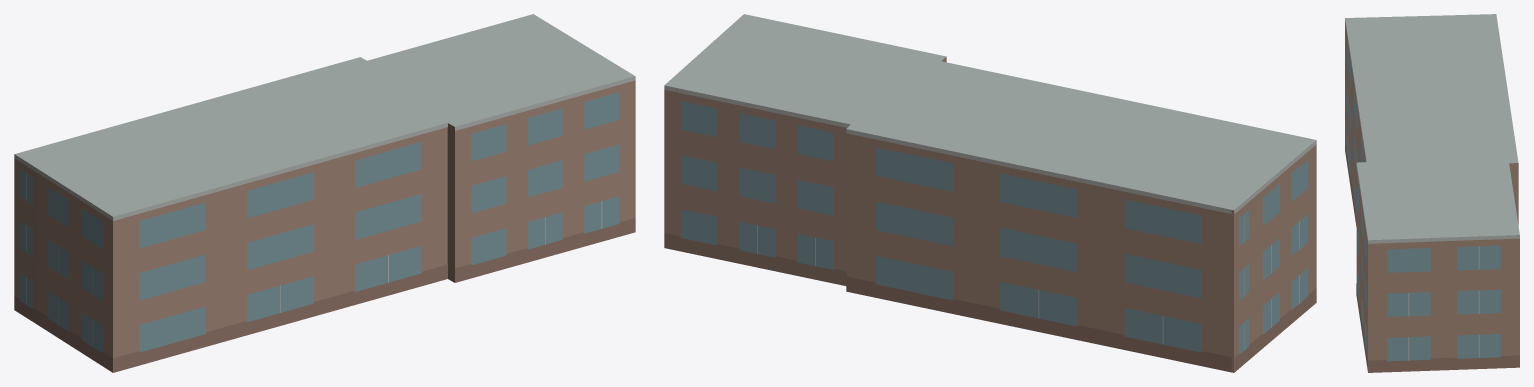
Rendered from survey-upis-32629996.glb.
The picture shows the model from 3 angles, left to right: view 1: azimuth 30°, elevation 25°; view 2: azimuth 150°, elevation 25°; view 3: azimuth 270°, elevation 25°; orthographic projection. The views are drawn at different scales.
Parts seen in each view (by area): view 1: survey-upis-32629996.tmp; view 2: survey-upis-32629996.tmp; view 3: survey-upis-32629996.tmp.
Boxes of the visible parts, x1,y1,x2,y2 form: survey-upis-32629996.tmp: (14, 14, 635, 372); survey-upis-32629996.tmp: (664, 14, 1316, 372); survey-upis-32629996.tmp: (1345, 14, 1519, 372).
Bounding box in the file's own units: 33.5 × 9.15 × 10.94.
